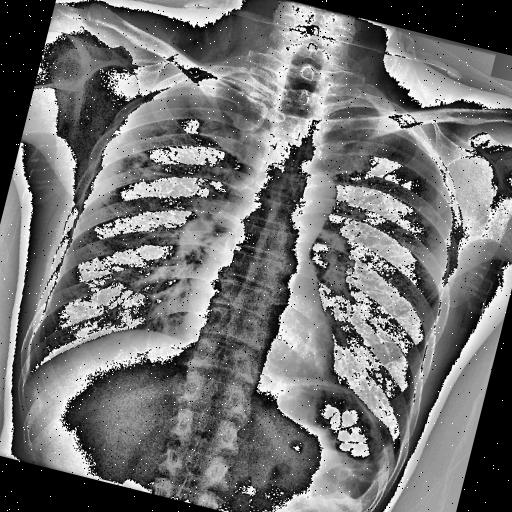13- Pulmonary fibrosis: (97, 140, 165, 194), (118, 145, 172, 189)
6- Infiltration: (124, 144, 168, 188)
7- Lung Opacity: (97, 140, 165, 194)
